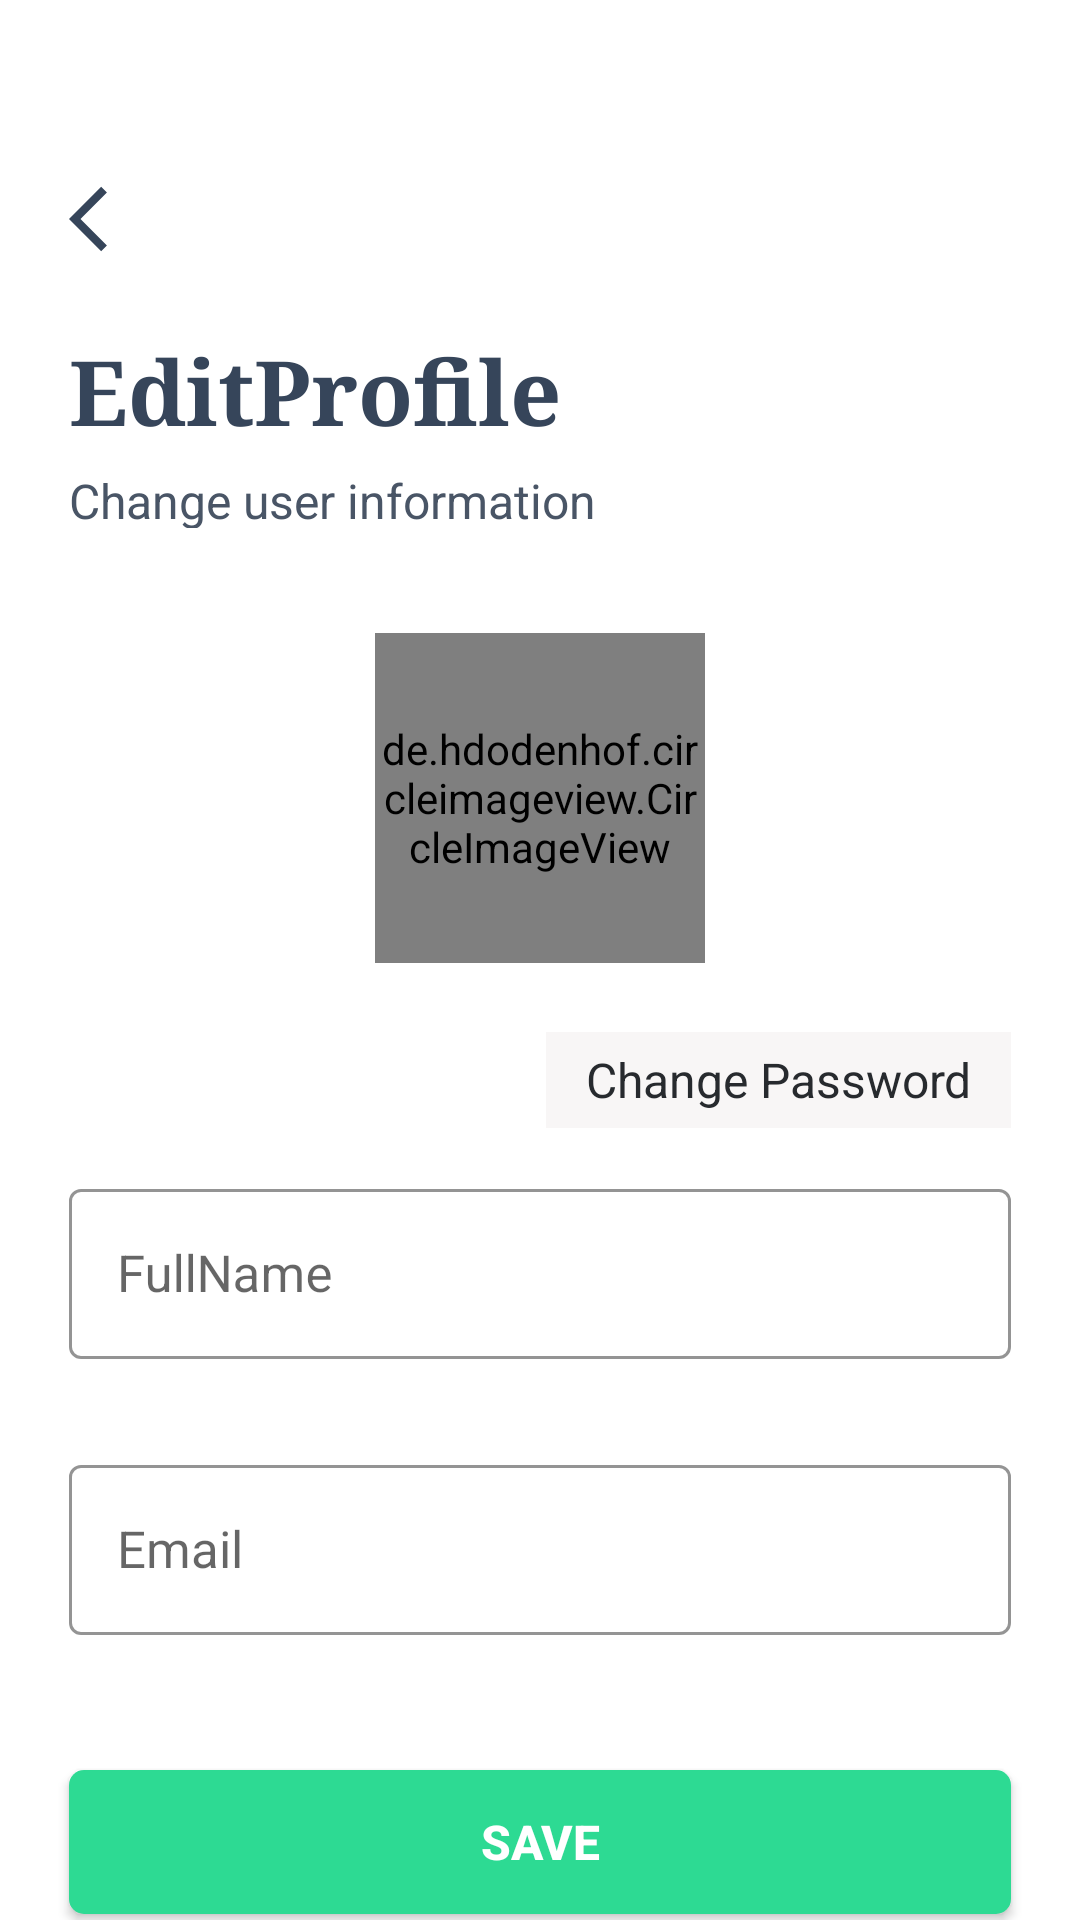

Icon bounding boxes for this 1080x1920 phone screenshot, format rect(x1, y1, x2, y2):
back: rect(69, 187, 107, 251)
